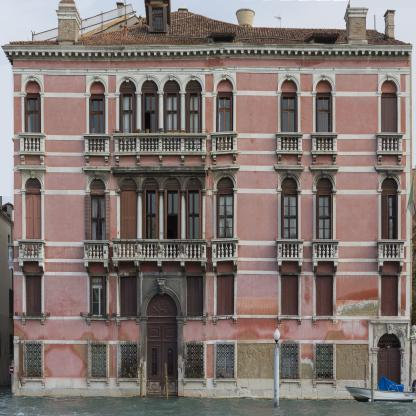Balcony: (111, 239, 209, 263), (112, 133, 208, 156), (16, 239, 47, 263), (210, 131, 239, 155), (210, 238, 239, 262), (17, 132, 47, 155), (376, 239, 406, 262), (311, 239, 341, 262), (376, 132, 405, 155), (275, 132, 304, 155), (82, 240, 111, 263), (275, 239, 305, 261), (82, 134, 111, 156), (310, 132, 339, 154)
Building Outline: (1, 0, 413, 400)
Cornice: (111, 165, 210, 171), (369, 319, 412, 324), (209, 164, 241, 170), (273, 164, 305, 170), (17, 165, 48, 171), (308, 165, 341, 170), (374, 165, 406, 170), (81, 166, 112, 171)
Deco: (146, 293, 178, 341), (156, 278, 167, 296), (386, 325, 393, 335)
Door: (147, 341, 178, 396), (377, 348, 401, 400), (381, 214, 398, 258), (281, 213, 298, 257), (316, 214, 333, 258), (216, 109, 233, 151), (381, 110, 398, 151), (281, 109, 298, 150), (316, 110, 333, 151)
Facade: (14, 61, 411, 400)
Floor: (14, 157, 411, 263), (14, 65, 411, 157), (14, 264, 411, 331), (148, 0, 166, 65)
Floor Slab: (14, 61, 411, 66), (14, 259, 411, 264), (14, 152, 411, 157), (14, 327, 411, 332)
Ground Floor: (14, 331, 411, 400)
Molding: (8, 49, 412, 58)
Pillar: (135, 190, 144, 257), (179, 189, 187, 258), (157, 190, 165, 258), (179, 91, 187, 151), (135, 92, 143, 151), (157, 92, 165, 151)
Roof: (4, 8, 412, 46)
Sill: (115, 316, 149, 326), (174, 316, 208, 325), (212, 314, 238, 325), (277, 315, 303, 325), (86, 316, 110, 326), (312, 316, 337, 325), (21, 316, 46, 325), (21, 377, 46, 386), (86, 377, 111, 386), (182, 378, 207, 387), (213, 378, 238, 387), (312, 379, 337, 388), (276, 379, 303, 387), (116, 378, 141, 386)
Window: (25, 212, 42, 258), (216, 215, 234, 257), (163, 215, 181, 257), (185, 215, 203, 257), (141, 111, 159, 152), (163, 111, 181, 152), (142, 215, 159, 258), (120, 215, 137, 257), (381, 275, 398, 316), (316, 275, 333, 316), (217, 275, 234, 316), (119, 111, 136, 152), (89, 218, 106, 258), (281, 275, 298, 315), (186, 276, 203, 316), (24, 111, 41, 151), (89, 112, 106, 152), (120, 277, 137, 316), (90, 276, 106, 317), (26, 276, 42, 317), (186, 111, 202, 152), (282, 343, 299, 379), (316, 344, 333, 379), (120, 345, 138, 378), (217, 344, 234, 378), (187, 344, 204, 378), (91, 344, 107, 378), (26, 344, 41, 378), (163, 190, 181, 215), (120, 190, 137, 215), (142, 190, 159, 215), (217, 190, 234, 215), (185, 190, 202, 215), (381, 190, 398, 214), (281, 189, 298, 213), (316, 190, 333, 214), (89, 195, 106, 217), (25, 194, 42, 212), (24, 93, 41, 111), (89, 94, 106, 112), (119, 93, 136, 111), (142, 93, 159, 111), (164, 93, 181, 111), (216, 92, 233, 109), (186, 93, 202, 111), (152, 7, 164, 31), (381, 94, 398, 110), (281, 93, 298, 109), (316, 94, 333, 110), (89, 178, 106, 194), (25, 177, 41, 193), (24, 80, 41, 93), (163, 79, 180, 92), (216, 78, 233, 91), (381, 177, 398, 190), (164, 177, 181, 190), (217, 177, 234, 190), (316, 177, 333, 190), (119, 80, 137, 92), (185, 178, 203, 190), (89, 81, 105, 94), (381, 79, 398, 91), (141, 80, 158, 92), (280, 79, 297, 91), (316, 79, 333, 91), (120, 178, 137, 190), (142, 178, 159, 190), (281, 177, 298, 189), (185, 80, 202, 92)
dont: (345, 363, 416, 403), (273, 326, 281, 406)
